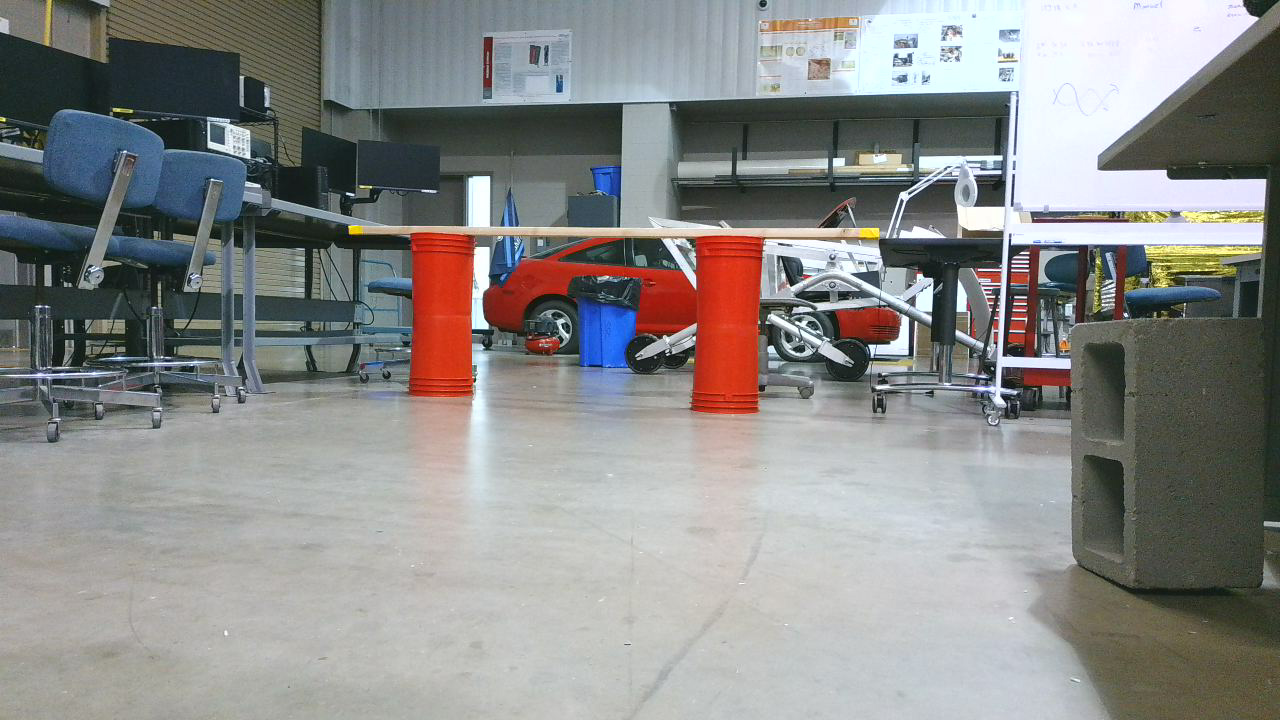red_bucket_arch: (416, 234, 770, 420)
